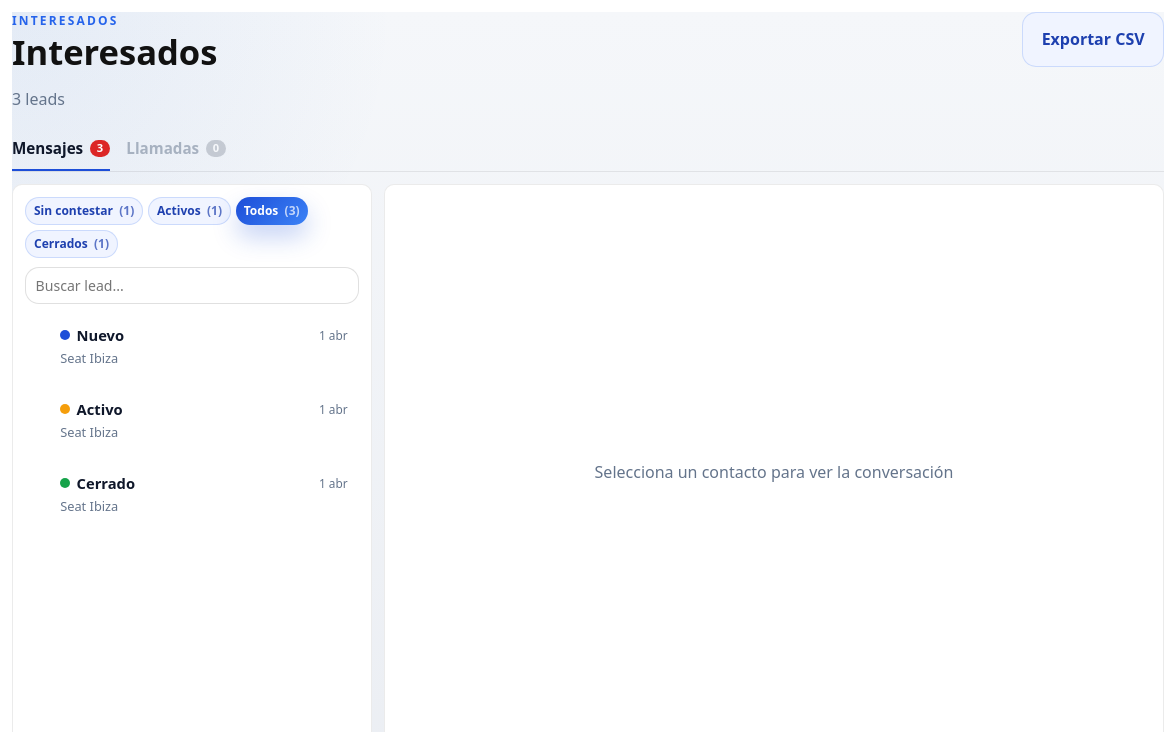
Test case: LeadsList — status filters › shows only closed leads with "Cerrados" filter
The width and height of the screenshot is (1176, 732).
Click the button "Cerrados (1)".
click(72, 244)  # box [25,230,118,258]
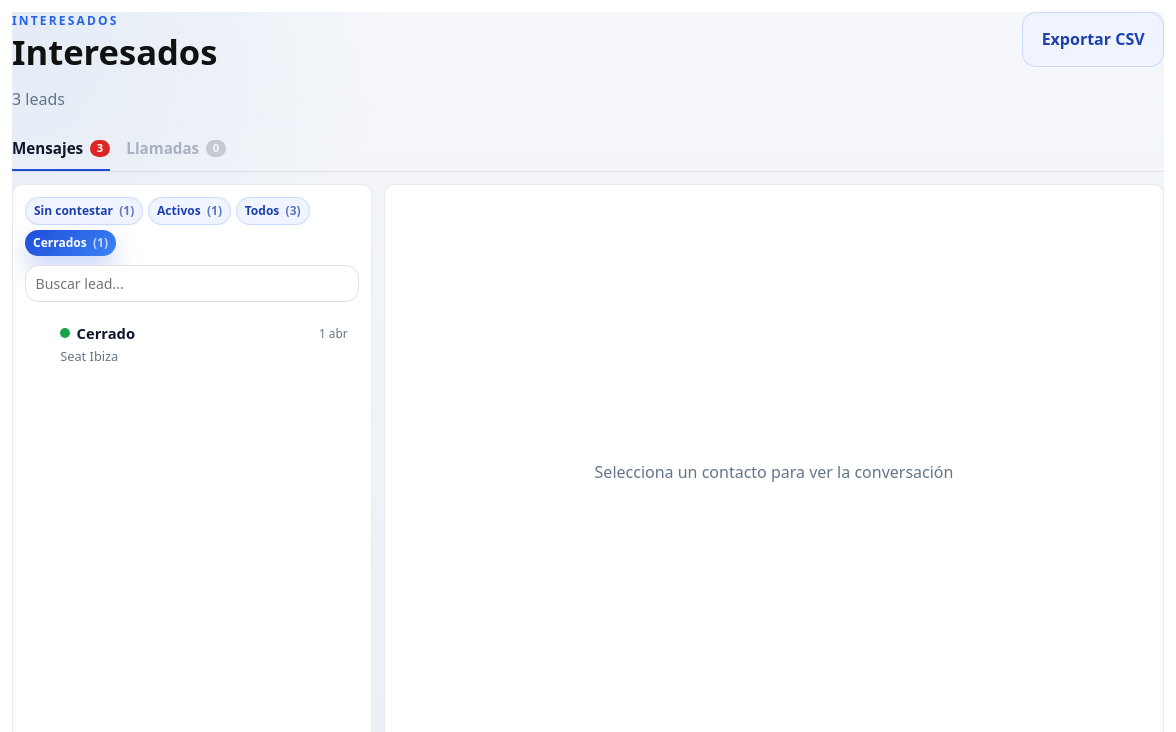
Expected: the text "Cerrado" is shown, [60,322,135,344]
Now the option "Nuevo" is gone
